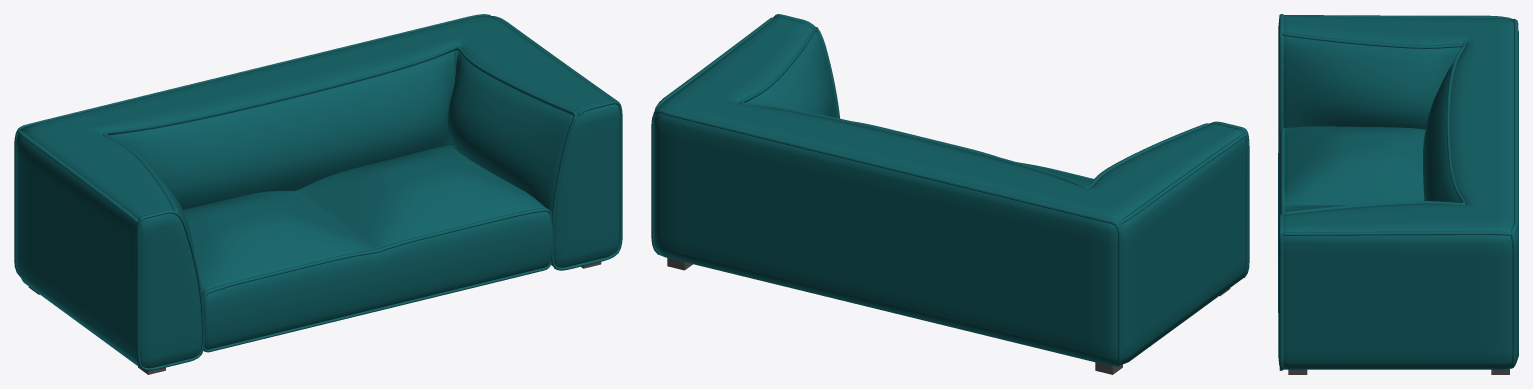
Rendered from sofa_two_seater.glb.
3 renders of one model, left to right at view 1: azimuth 30°, elevation 25°; view 2: azimuth 150°, elevation 25°; view 3: azimuth 270°, elevation 25°, orthographic. The views are drawn at different scales.
Visible parts, largest first — view 1: Sofa45; view 2: Sofa45; view 3: Sofa45, Feet78.
Boxes of the visible parts, x1=… form: Sofa45: x1=14, y1=14, x2=622, y2=370; Sofa45: x1=651, y1=14, x2=1249, y2=366; Sofa45: x1=1278, y1=14, x2=1518, y2=370; Feet78: x1=1288, y1=369, x2=1509, y2=374.
Size of the model in its own units: 2.2 by 0.7091 by 1.02.
